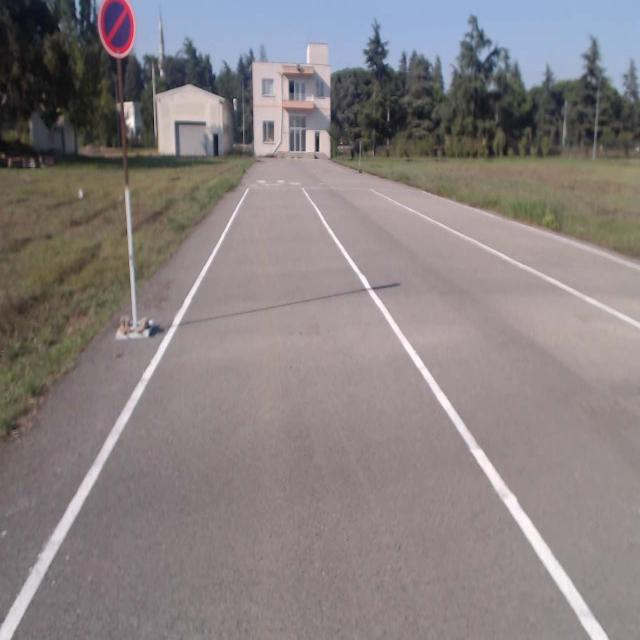parkyasak: (98, 1, 135, 57)
